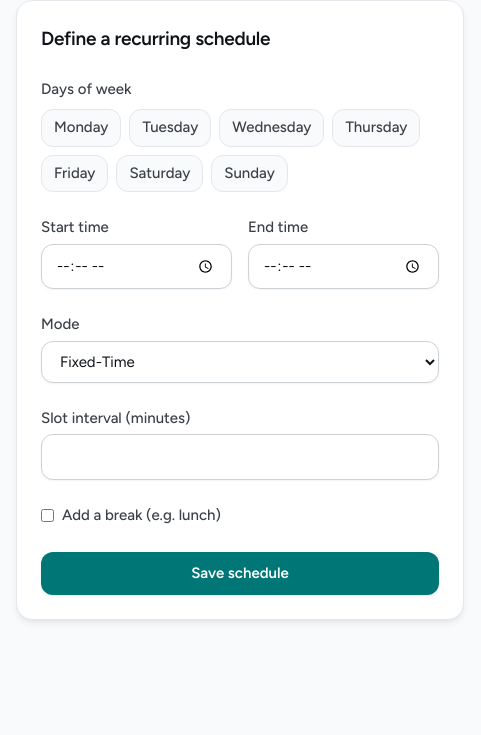
Test: ScheduleForm › shows the FORBIDDEN error message returned by the API
Click the checkbox labelled "Monday": point(81, 128) x1=41 y1=109 x2=121 y2=147
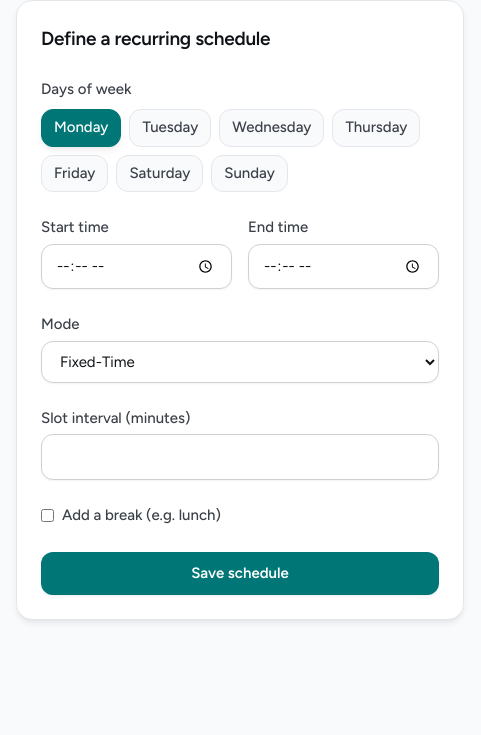
In the time field labelled "Start time": point(136, 267) x1=41 y1=244 x2=232 y2=289, type "09:00"
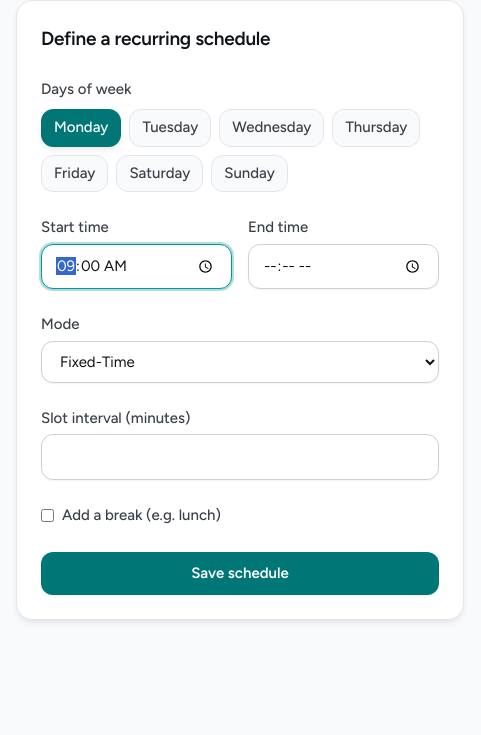
In the time field labelled "End time": point(344, 267) x1=248 y1=244 x2=439 y2=289, type "13:00"
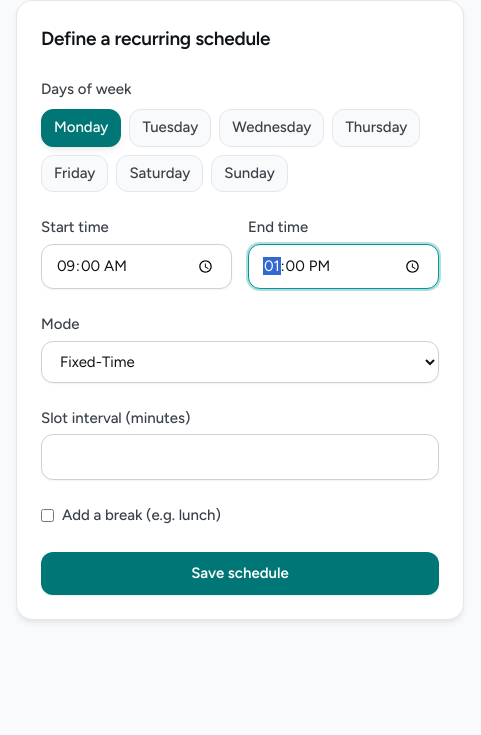
In the number field labelled "Slot interval (minutes)": point(240, 457) x1=41 y1=434 x2=439 y2=480, type "15"
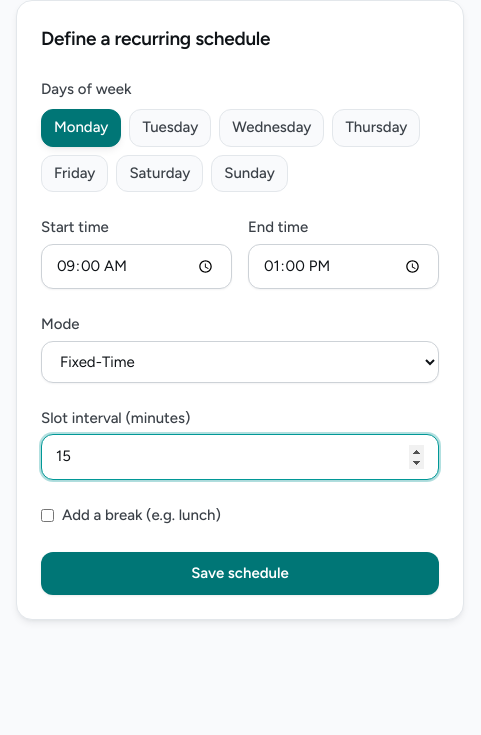
Click the button "Save schedule": point(240, 573) x1=41 y1=552 x2=439 y2=595
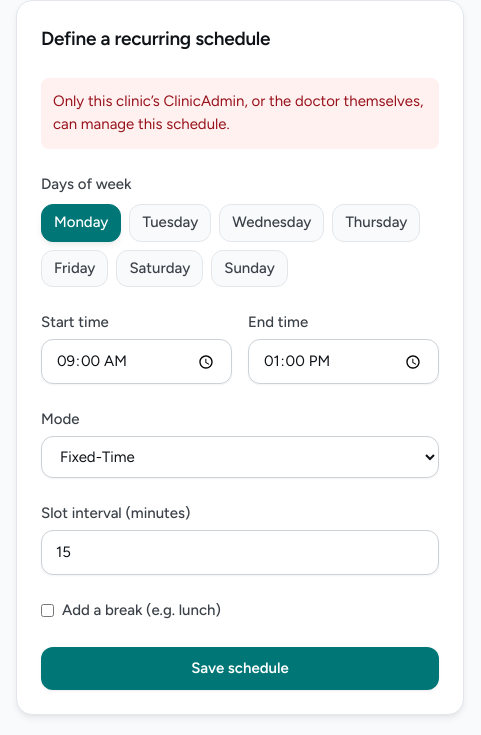
Expected: the message shows "ClinicAdmin", x1=53 y1=92 x2=423 y2=133
